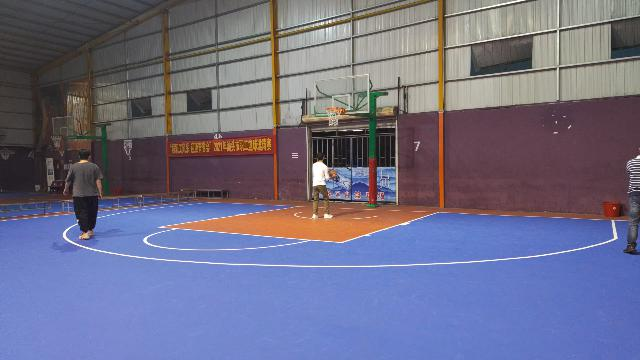ball: (330, 170, 336, 176)
basket: (324, 105, 344, 124)
